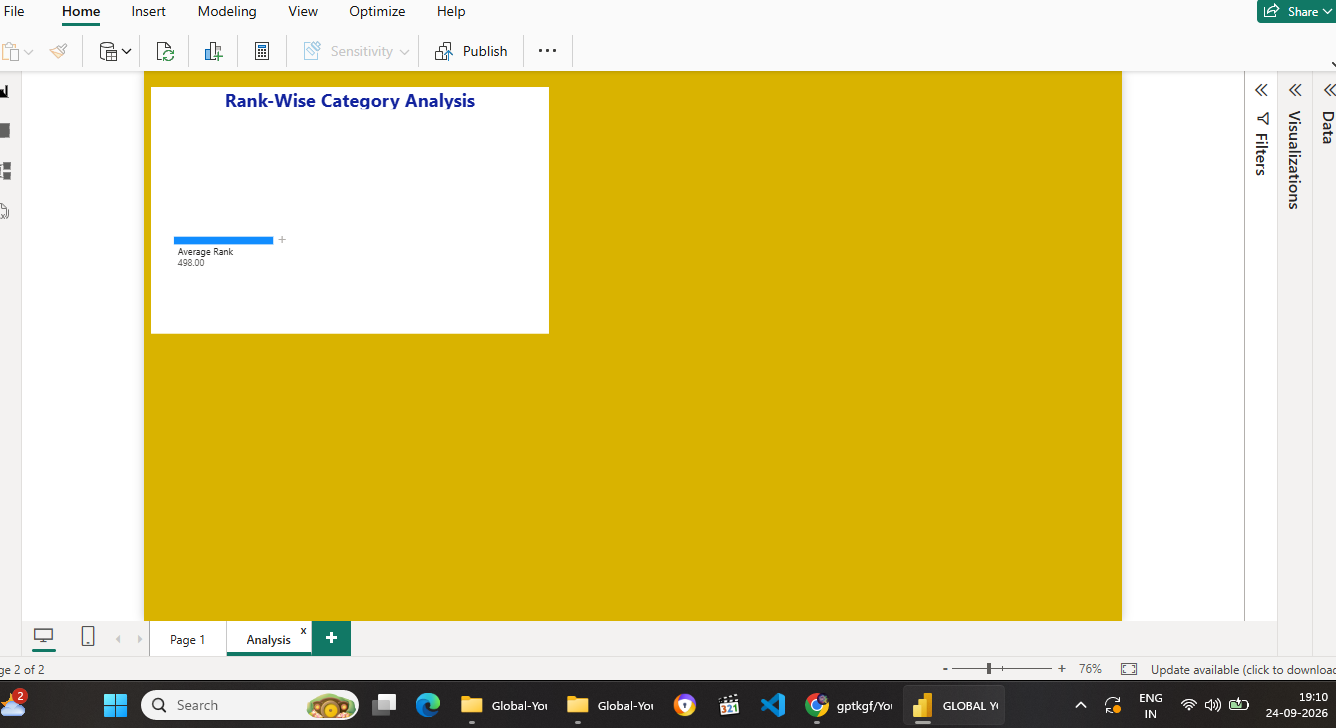

This screenshot's page, from the dashboard's own definition file:
{"tool":"powerbi","page":{"name":"Analysis","canvas":[1280,720],"ordinal":1},"visuals":[{"type":"decompositionTreeVisual","title":"Rank-Wise Category Analysis","fields":{"Analyze":["Global YouTube Statistics.Average Rank"],"ExplainBy":["Global YouTube Statistics.channel_type","Global YouTube Statistics.Country","Global YouTube Statistics.category"]},"box":[9.2,20.3,520.9,323.2],"z":0}]}

Visuals, with their boxes on the page's 1280x720 design canvas (x1, y1, x2, y2). These are canvas units, not pixel positions in the 1336x728 screenshot, which may show the page scaled, cropped or inside an application window:
"Rank-Wise Category Analysis" decompositionTreeVisual: <region>9, 20, 530, 344</region>
